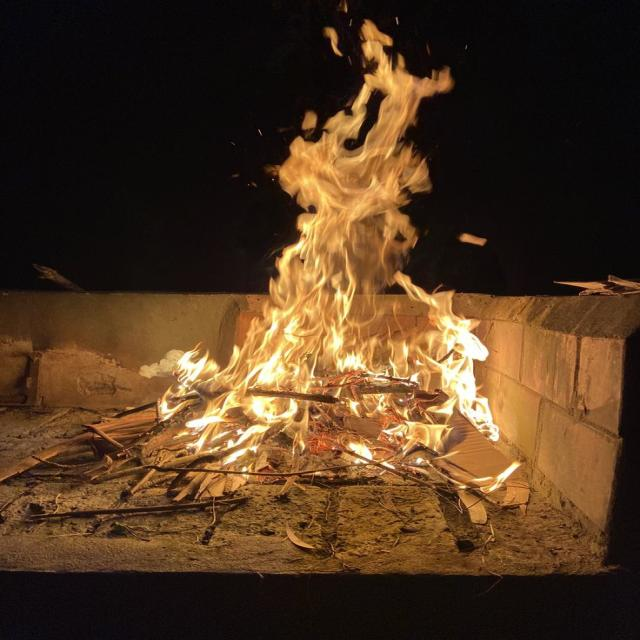fire: (158, 18, 500, 470)
